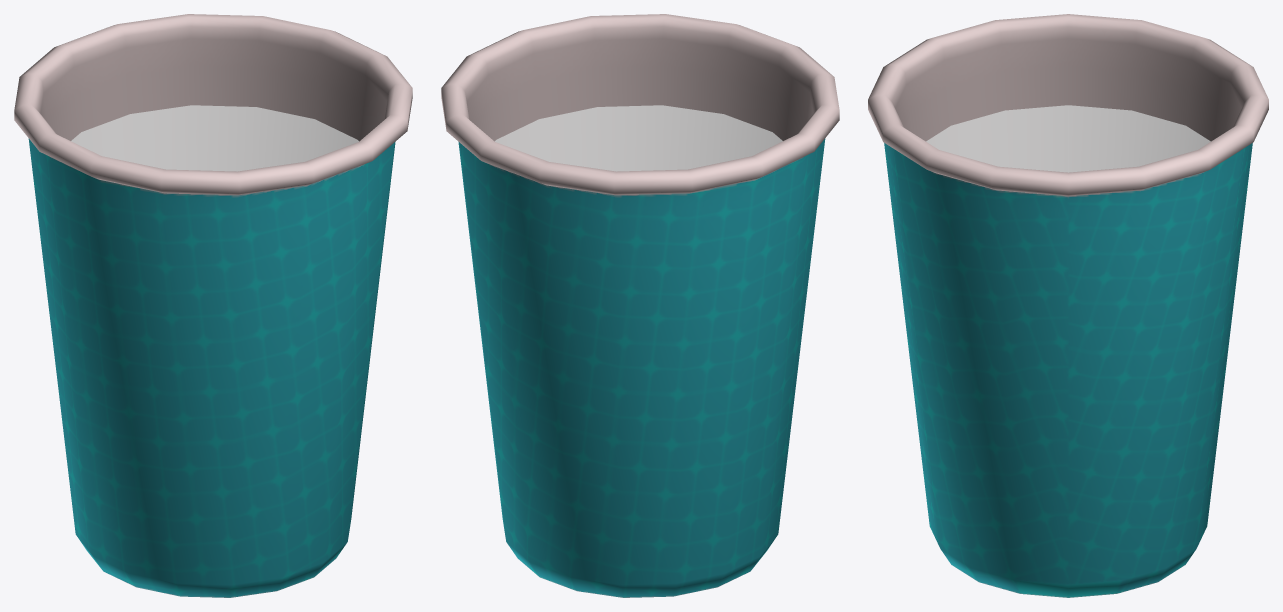
Rendered from paper-Cup.fbx.
3 renders of one model, left to right at view 1: azimuth 30°, elevation 25°; view 2: azimuth 150°, elevation 25°; view 3: azimuth 270°, elevation 25°, orthographic.
Visible parts, largest first — view 1: Paper-Cup, Drink-in-Paper-Cup; view 2: Paper-Cup, Drink-in-Paper-Cup; view 3: Paper-Cup, Drink-in-Paper-Cup.
Part boxes in pixels (x1,y1,x2,y2): Paper-Cup: [14, 14, 412, 597]; Drink-in-Paper-Cup: [71, 105, 358, 171]; Paper-Cup: [441, 14, 839, 597]; Drink-in-Paper-Cup: [495, 105, 782, 171]; Paper-Cup: [868, 14, 1268, 597]; Drink-in-Paper-Cup: [926, 105, 1210, 172].
Bounding box in the file's own units: 0.7149 × 0.8838 × 0.7149.
